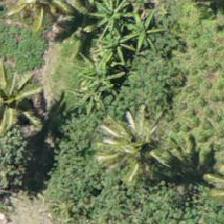coconut_tree: (96, 109, 186, 199), (0, 56, 47, 146)
